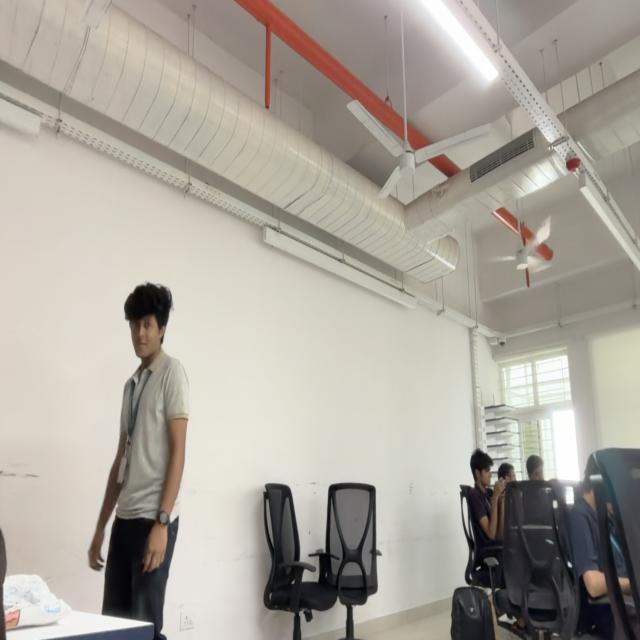kshitij: (123, 279, 173, 362)
